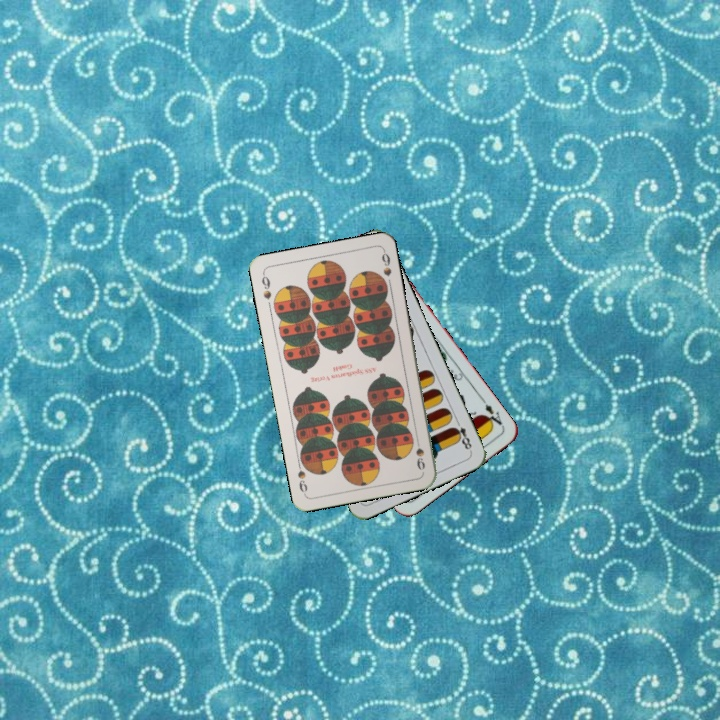E8: (449, 415, 474, 454)
EA: (479, 400, 506, 430)
S9: (412, 433, 428, 473), (258, 269, 274, 302)
